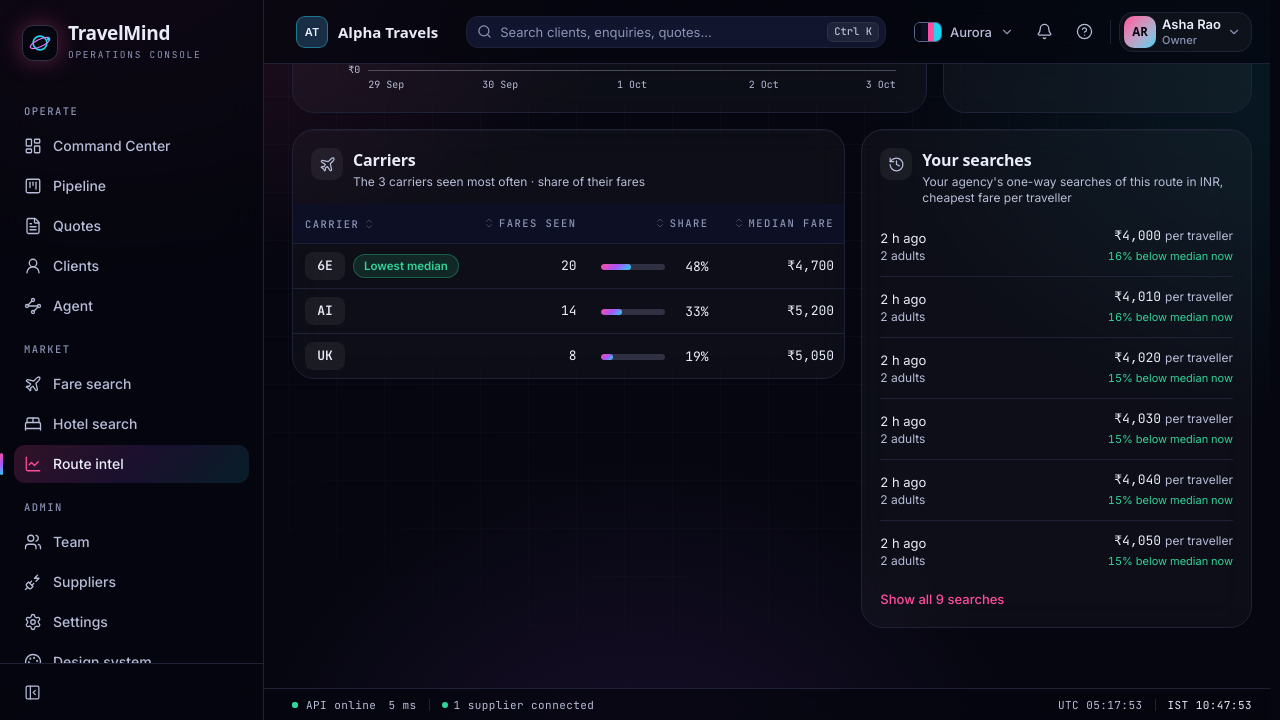
Scenario: a long search history shows the newest six until expanded
(page scrolled)
Click the button "Show all 9 searches" at (942,599), box [880,589,1004,609]
(page scrolled)
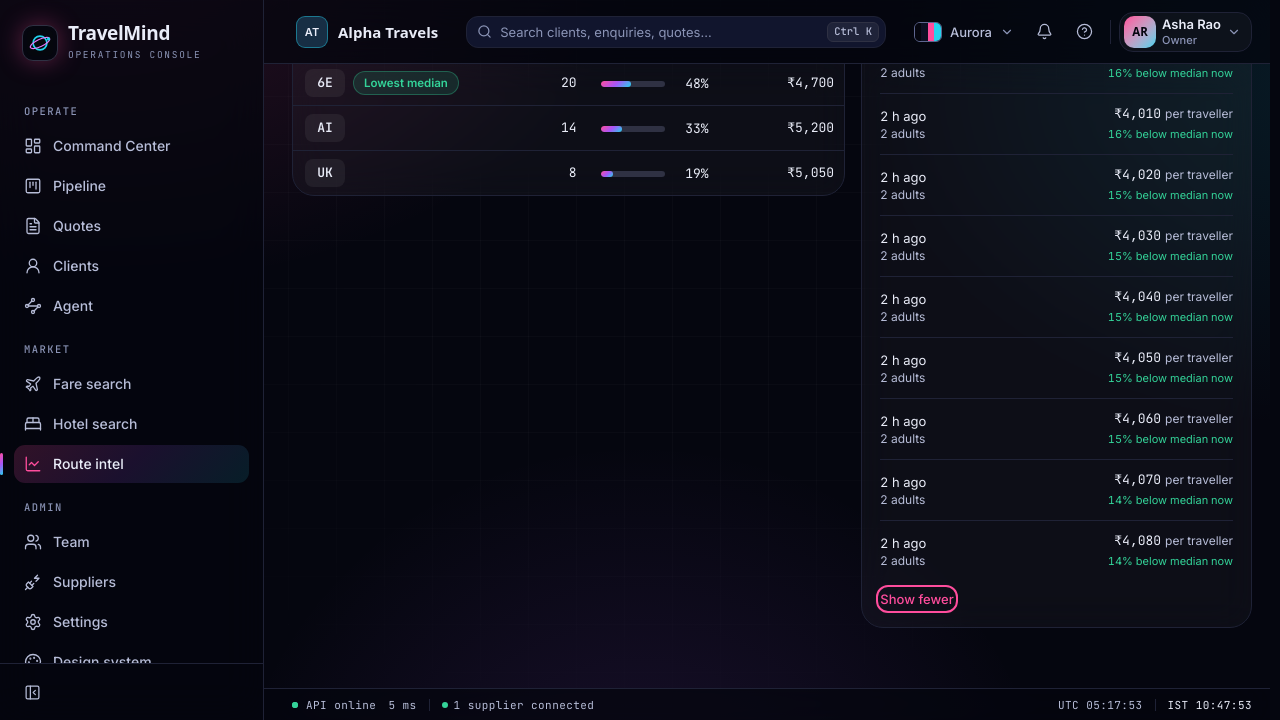
Expected: the button "Show fewer" is expanded, [880,589,954,609]
